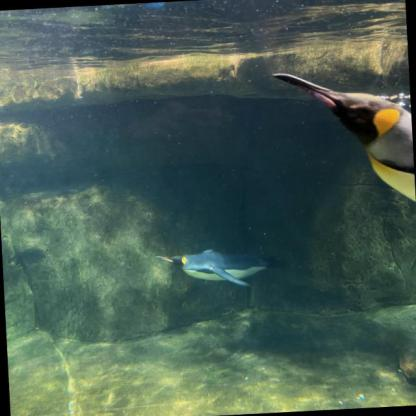penguin: (270, 65, 416, 214), (155, 245, 288, 292)
